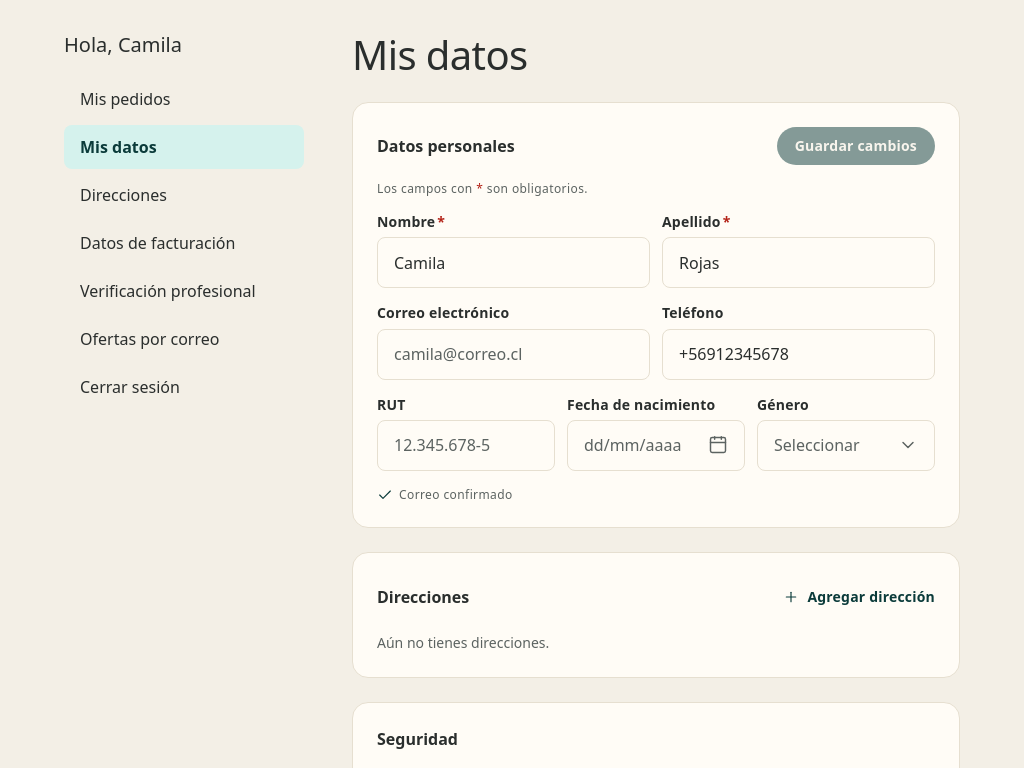
Test case: SCRUM-97 · Mis datos › SCRUM-164 · nombre bloqueado por la verificación: muestra el mensaje del backend y conserva lo escrito
This screenshot has width=1024, height=768.
Replace the text in the field labelled "Nombre *" with "Ana" at (514, 263), box top-left (377, 237), bottom-right (650, 288)
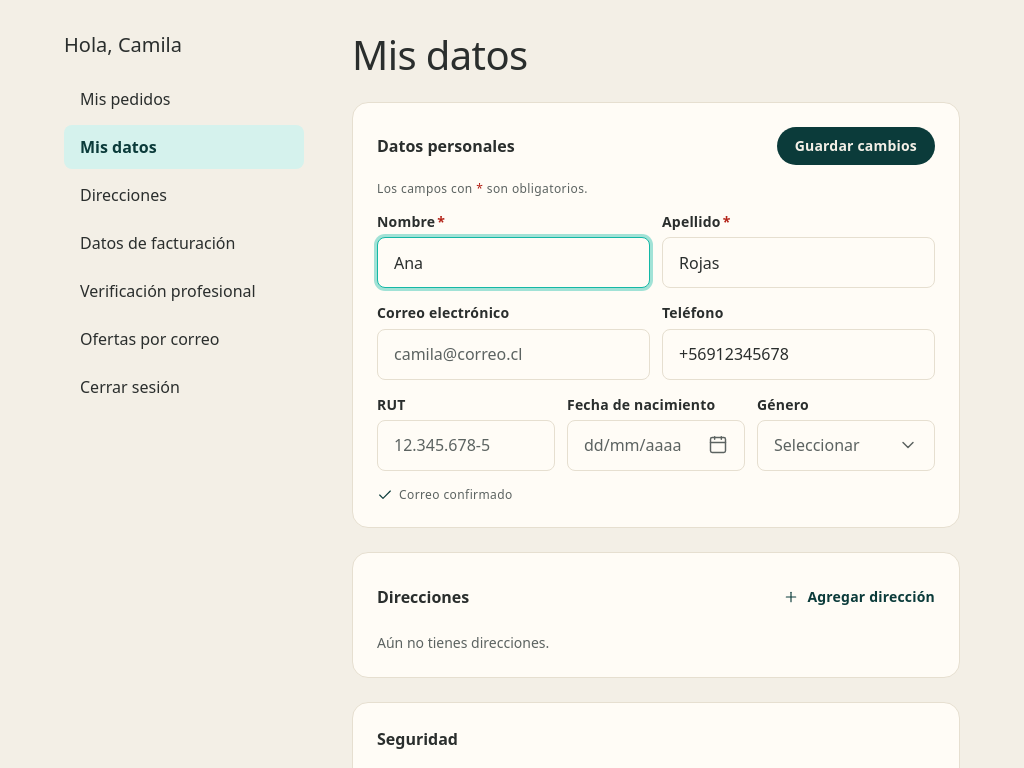
Click the button "Guardar cambios" at (856, 146), box top-left (777, 127), bottom-right (935, 165)
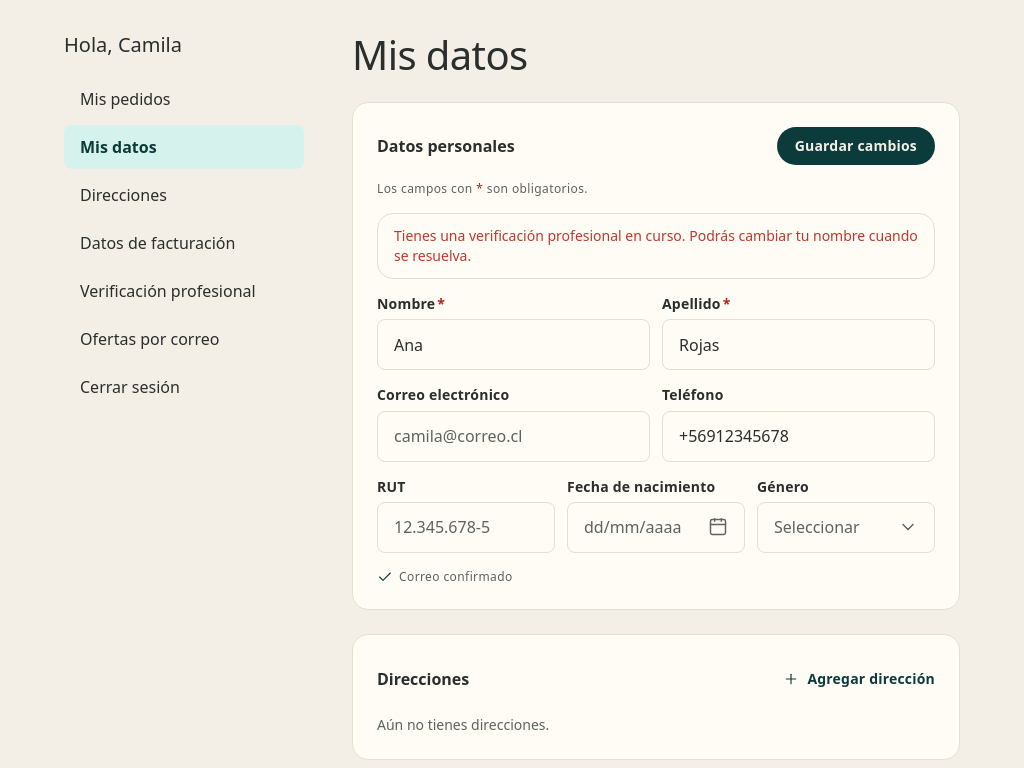
Result: the message shows "Tienes una verificación profesional en curso. Podrás cambiar tu nombre cuando se resuelva." at top-left (394, 226), bottom-right (918, 265)
